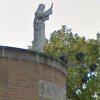Statue: (24, 1, 63, 60)
